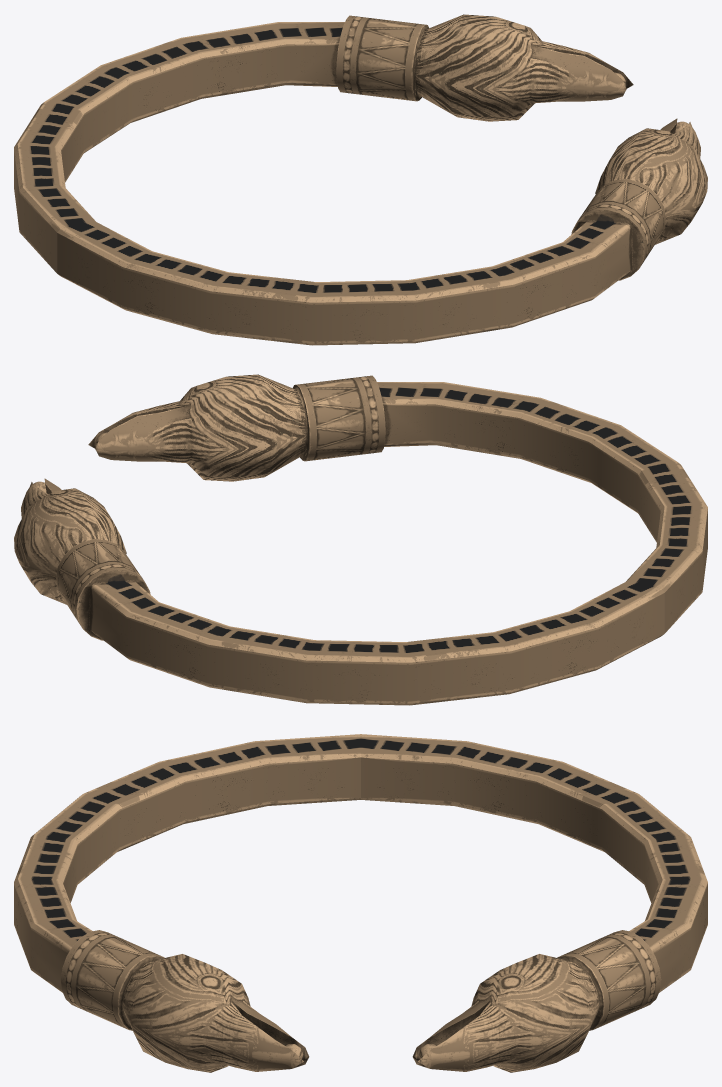
File: hand.glb
The picture shows the model from 3 angles, top to bottom: view 1: azimuth 30°, elevation 25°; view 2: azimuth 150°, elevation 25°; view 3: azimuth 270°, elevation 25°; orthographic projection. The views are drawn at different scales.
Parts seen in each view (by area): view 1: polySurface33; view 2: polySurface33; view 3: polySurface33.
Boxes of the visible parts, box(x1,y1,x2,y2) form: polySurface33: box(14, 14, 707, 345); polySurface33: box(14, 374, 707, 705); polySurface33: box(14, 734, 707, 1072).
Size of the model in its own units: 5.69 by 0.8569 by 5.46.
Materials: 1 (1 with a texture image).
